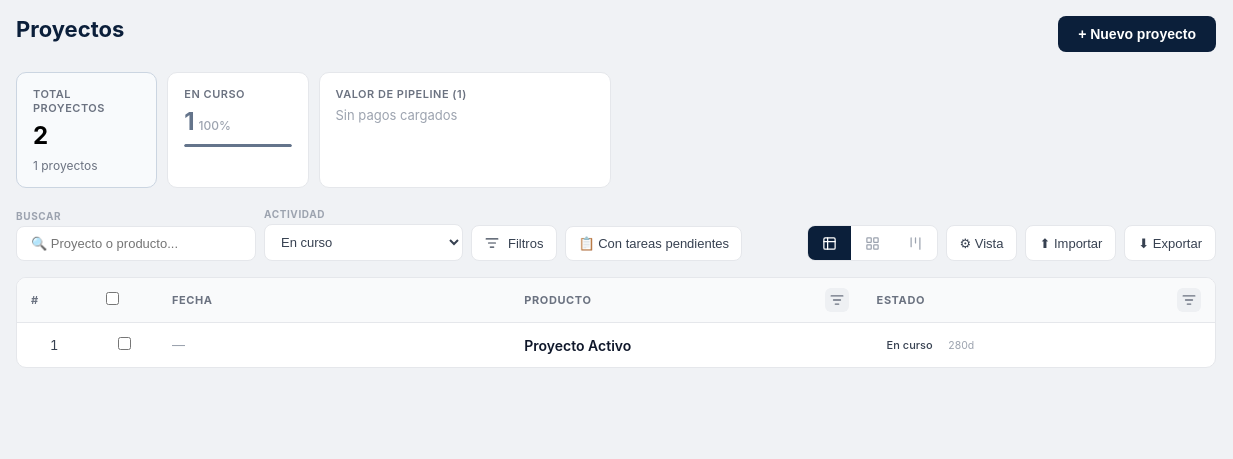
Test: Negotiations › el filtro de Actividad "Todos" vuelve a mostrar los proyectos pausados ocultos por el filtro por defecto
The image size is (1233, 459).
Expected: the text "Proyecto Activo" is shown, [510,322,863,367]
Expected: the text "Proyecto Pausado" is not shown
Select "Todos (activos e inactivos)" in the dropdown with class "neg-select". click: (364, 242)
box: [264,224,463,261]
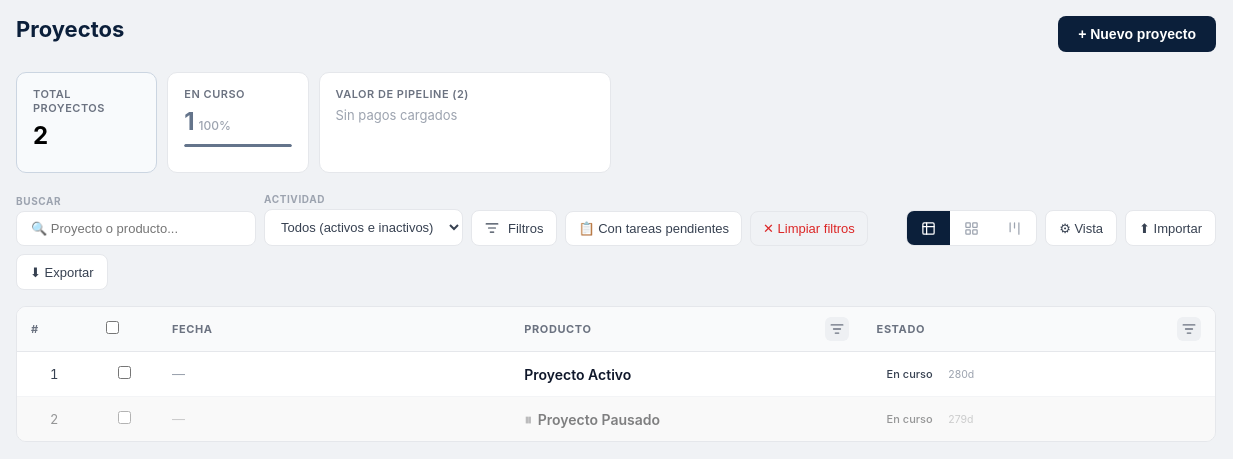
Expected: the text "Proyecto Pausado" is shown, [538,410,660,428]
Expected: the button "✕ Limpiar filtros" is shown, [750,211,868,246]
